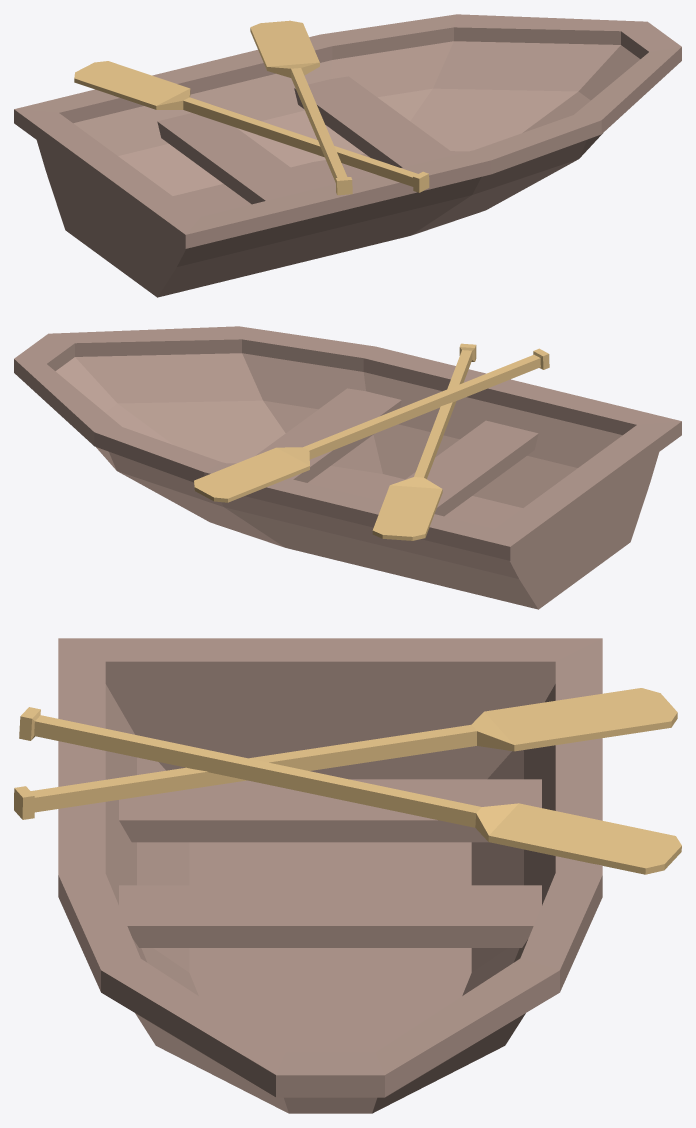
The model's file is Rowboat_01.gltf.
The picture shows the model from 3 angles, top to bottom: view 1: azimuth 30°, elevation 25°; view 2: azimuth 150°, elevation 25°; view 3: azimuth 270°, elevation 25°; orthographic projection. The views are drawn at different scales.
Parts seen in each view (by area): view 1: node-0; view 2: node-0; view 3: node-0.
Boxes of the visible parts, x1,y1,x2,y2 form: node-0: [14, 14, 681, 297]; node-0: [14, 326, 681, 609]; node-0: [14, 638, 681, 1113].
Size of the model in its own units: 19.18 by 3.92 by 12.39.
